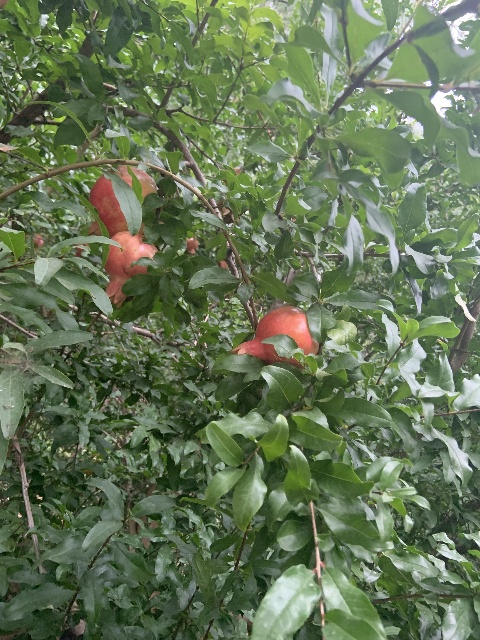ripe: (87, 165, 159, 238), (231, 306, 319, 365), (104, 230, 158, 308), (186, 237, 198, 254)
